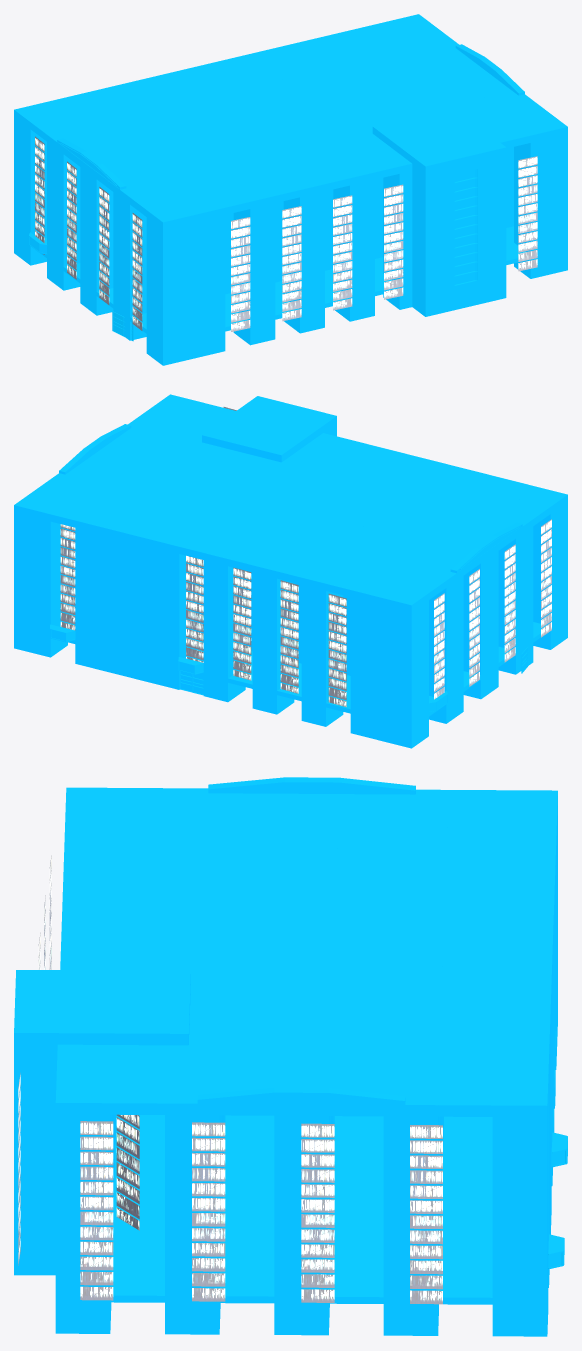
3 views of the same model, one above another, from view 1: azimuth 30°, elevation 25°; view 2: azimuth 150°, elevation 25°; view 3: azimuth 270°, elevation 25° (orthographic). The views are drawn at different scales.
Parts seen in each view (by area): view 1: 04.Skys05Plane.005; view 2: 04.Skys05Plane.005; view 3: 04.Skys05Plane.005.
Boxes of the visible parts, x1,y1,x2,y2 form: 04.Skys05Plane.005: (14, 14, 567, 365); 04.Skys05Plane.005: (14, 394, 567, 748); 04.Skys05Plane.005: (14, 777, 567, 1336).
Size of the model in its own units: 12.06 by 4.23 by 8.76.
